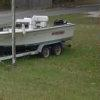Boat: (1, 13, 76, 63)
